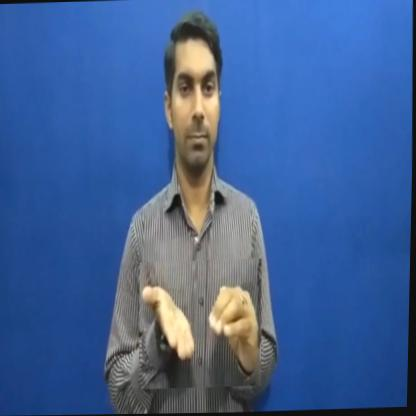ExcuseMe: (138, 259, 264, 389)
